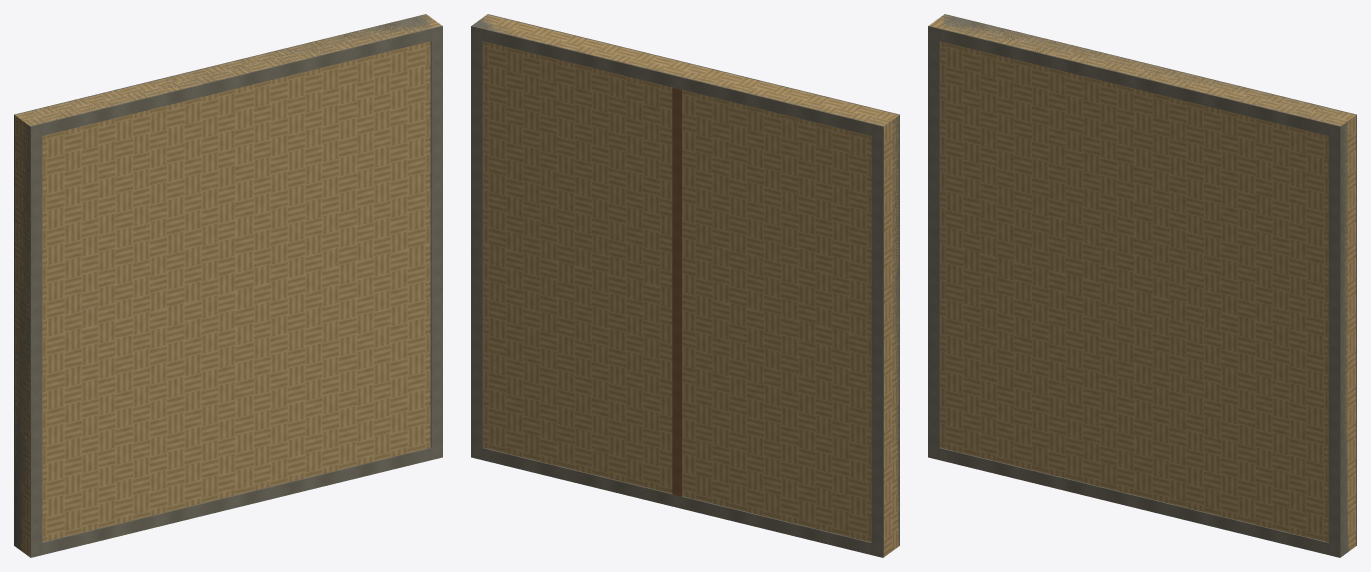
Rendered from MRP_WallHalf_Bamboo_1m.fbx.
3 renders of one model, left to right at view 1: azimuth 30°, elevation 25°; view 2: azimuth 150°, elevation 25°; view 3: azimuth 330°, elevation 25°, orthographic.
Visible parts, largest first — view 1: Body; view 2: Body; view 3: Body.
Boxes of the visible parts, x1,y1,x2,y2 form: Body: (14, 14, 442, 557); Body: (471, 14, 899, 557); Body: (928, 14, 1356, 557).
Size of the model in its own units: 1 by 1 by 0.07.
